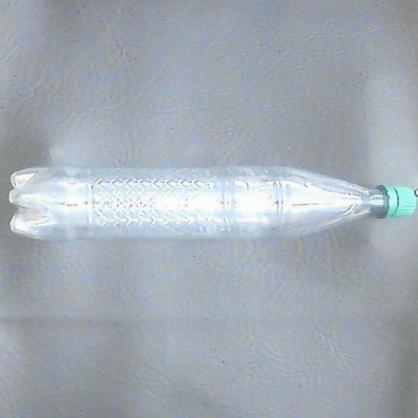bottle: (2, 163, 418, 245)
cap: (371, 183, 418, 229)
